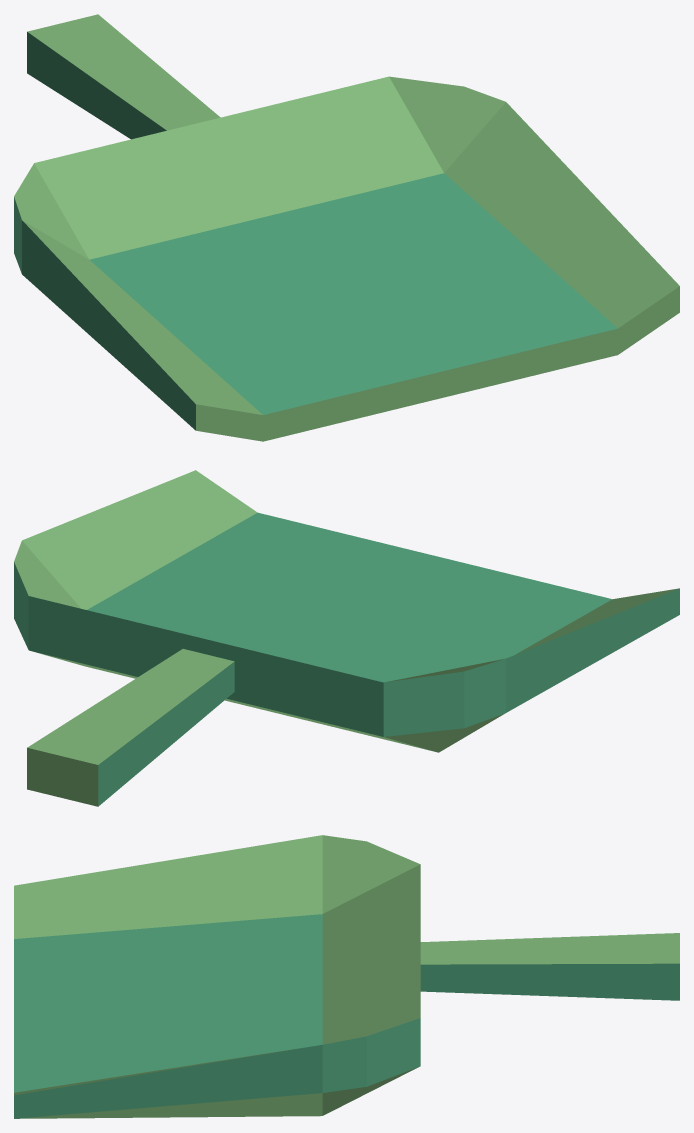
Rendered from Dust Pan.fbx.
The picture shows the model from 3 angles, top to bottom: view 1: azimuth 30°, elevation 25°; view 2: azimuth 150°, elevation 25°; view 3: azimuth 270°, elevation 25°; orthographic projection. The views are drawn at different scales.
Visible parts, largest first — view 1: Dust Pan; view 2: Dust Pan; view 3: Dust Pan.
Boxes of the visible parts, x1,y1,x2,y2 form: Dust Pan: (14, 14, 679, 441); Dust Pan: (14, 470, 679, 806); Dust Pan: (14, 835, 679, 1118).
Size of the model in its own units: 55.68 by 12.32 by 74.75.
